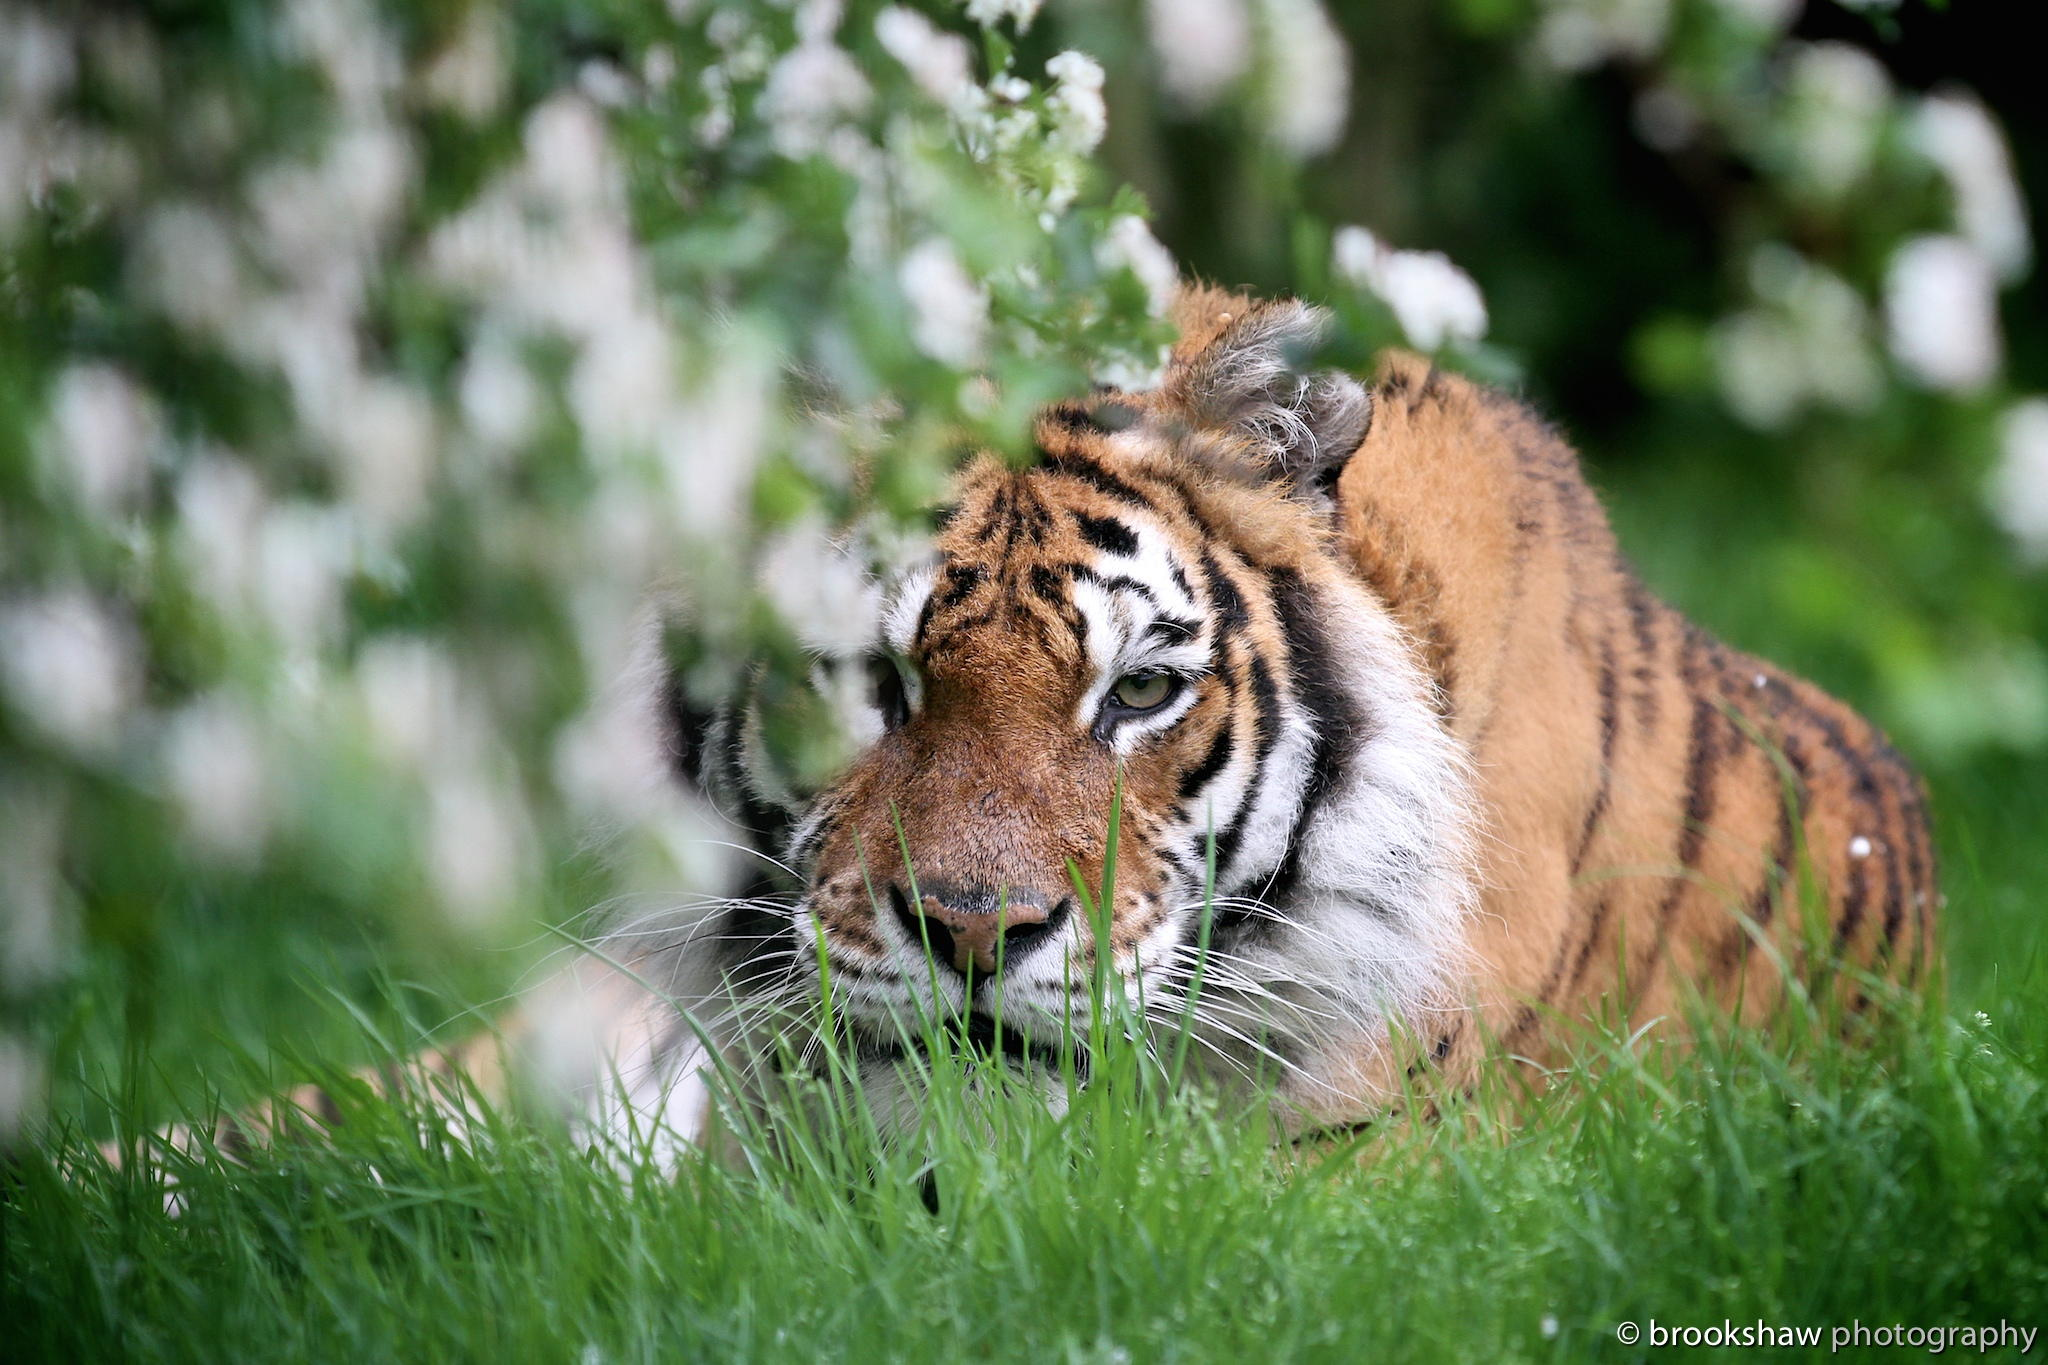tiger: (624, 346, 1954, 1168)
